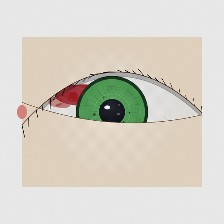hemorrhage_spot: (44, 64, 122, 126)
